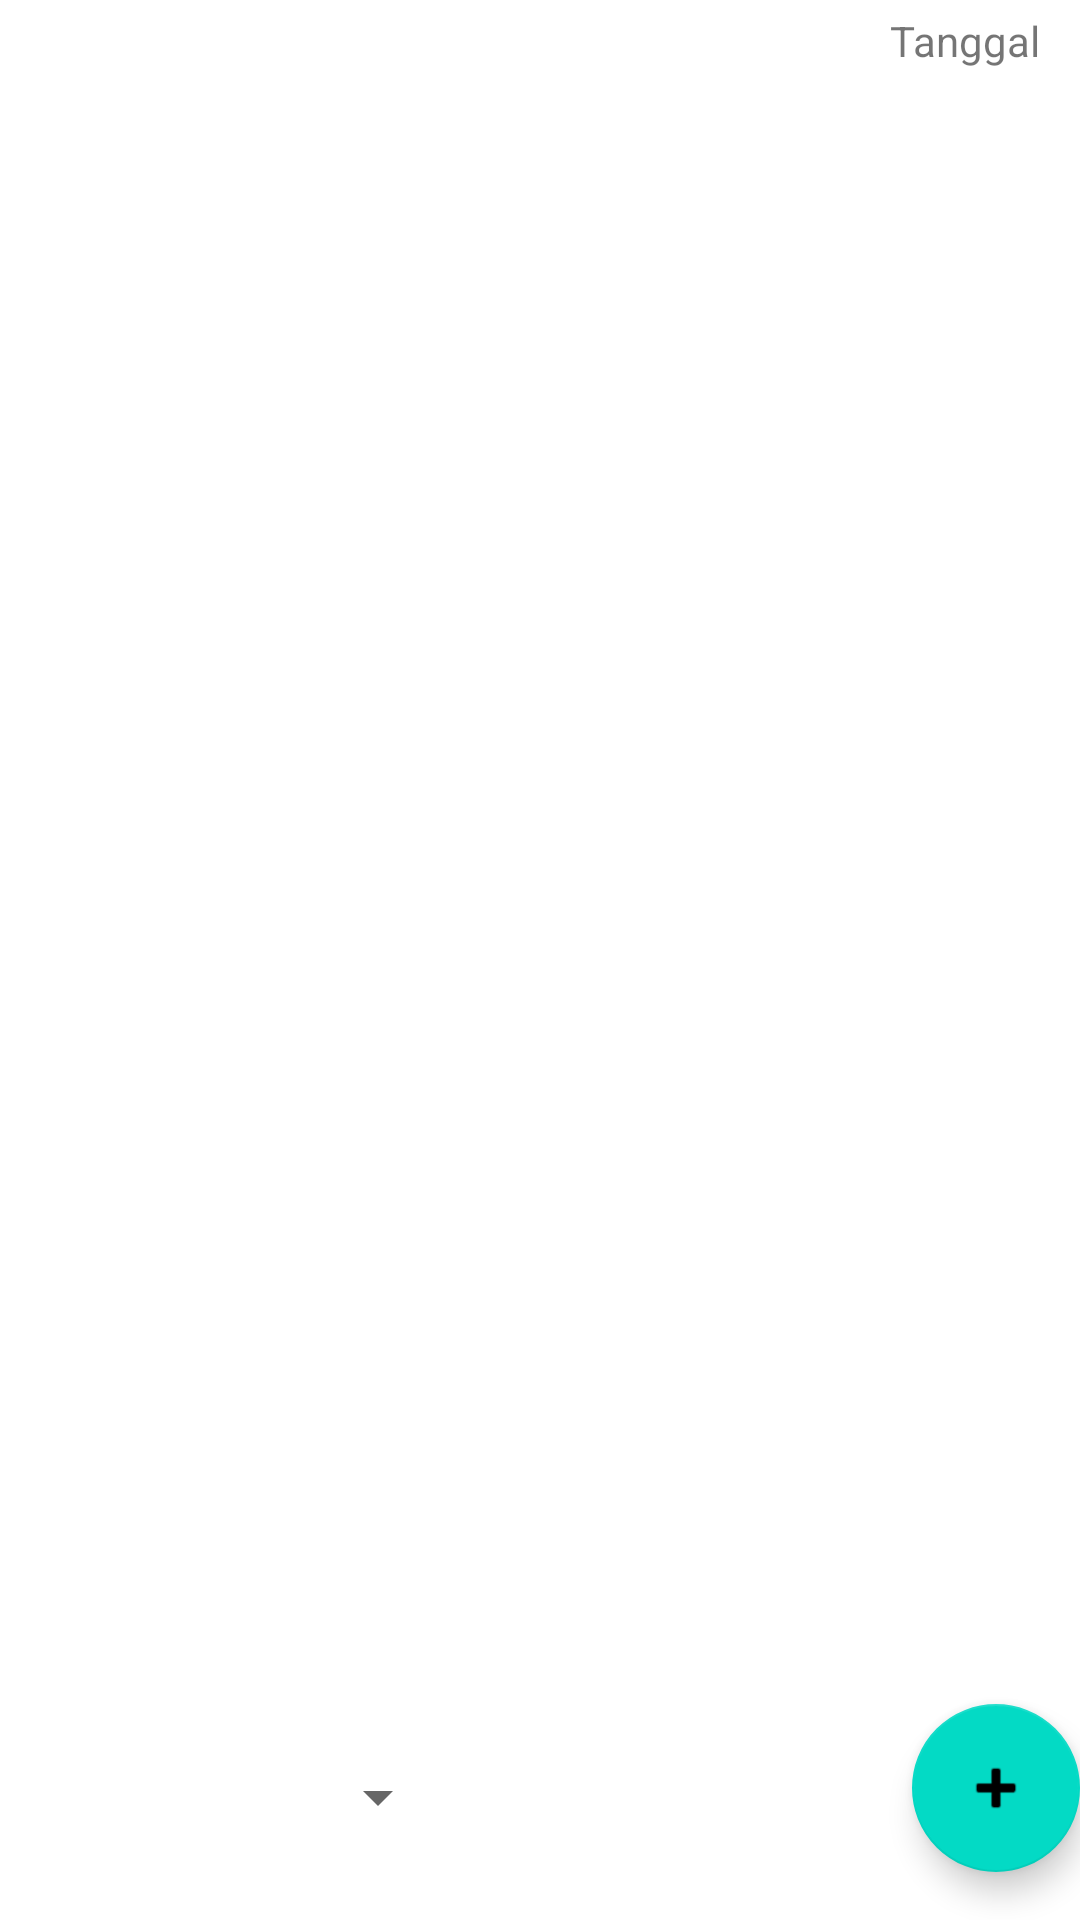

Screen size 1080 x 1920. Icon name, then its center in pixels as (x,y):
add: (996,1788)
